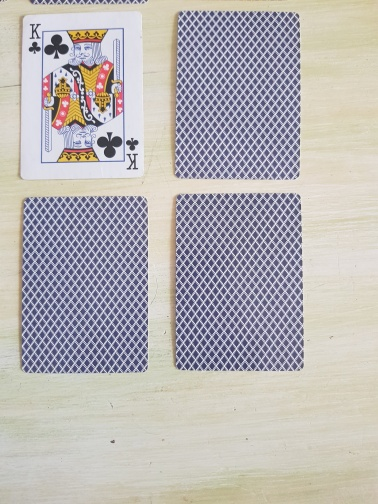king: (18, 10, 145, 181)
